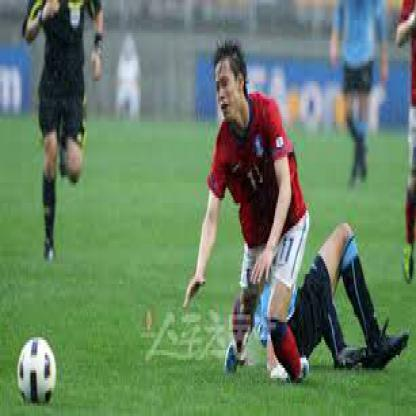Fall_Down: (178, 40, 312, 390)
